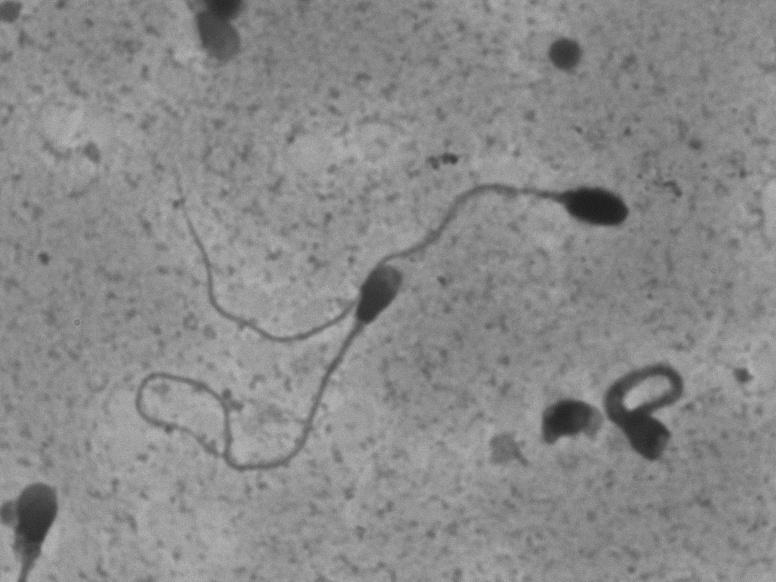Abnormal: (157, 159, 642, 351)
Normal: (105, 258, 412, 495)
